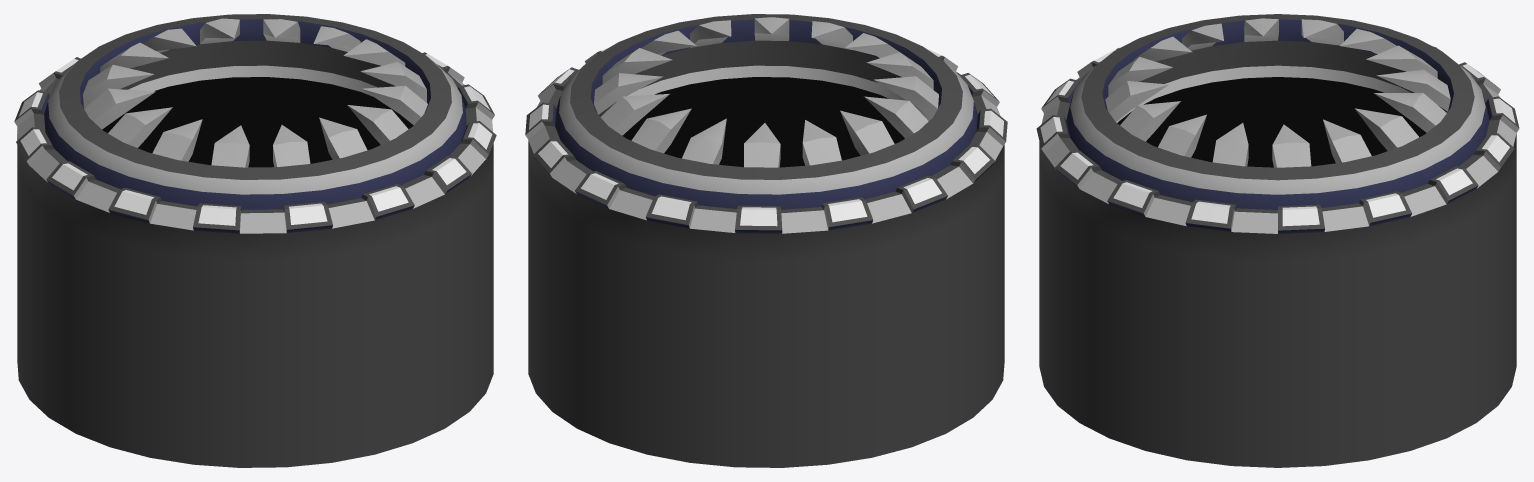
File: SM_AtmosphericAbsorber.fbx
3 renders of one model, left to right at view 1: azimuth 30°, elevation 25°; view 2: azimuth 150°, elevation 25°; view 3: azimuth 270°, elevation 25°, orthographic.
Visible parts, largest first — view 1: Cylinder; view 2: Cylinder; view 3: Cylinder.
Boxes of the visible parts, x1,y1,x2,y2 form: Cylinder: [14, 14, 496, 467]; Cylinder: [525, 14, 1007, 467]; Cylinder: [1036, 14, 1519, 467].
Bounding box in the file's own units: 2810 × 1849 × 2810.
